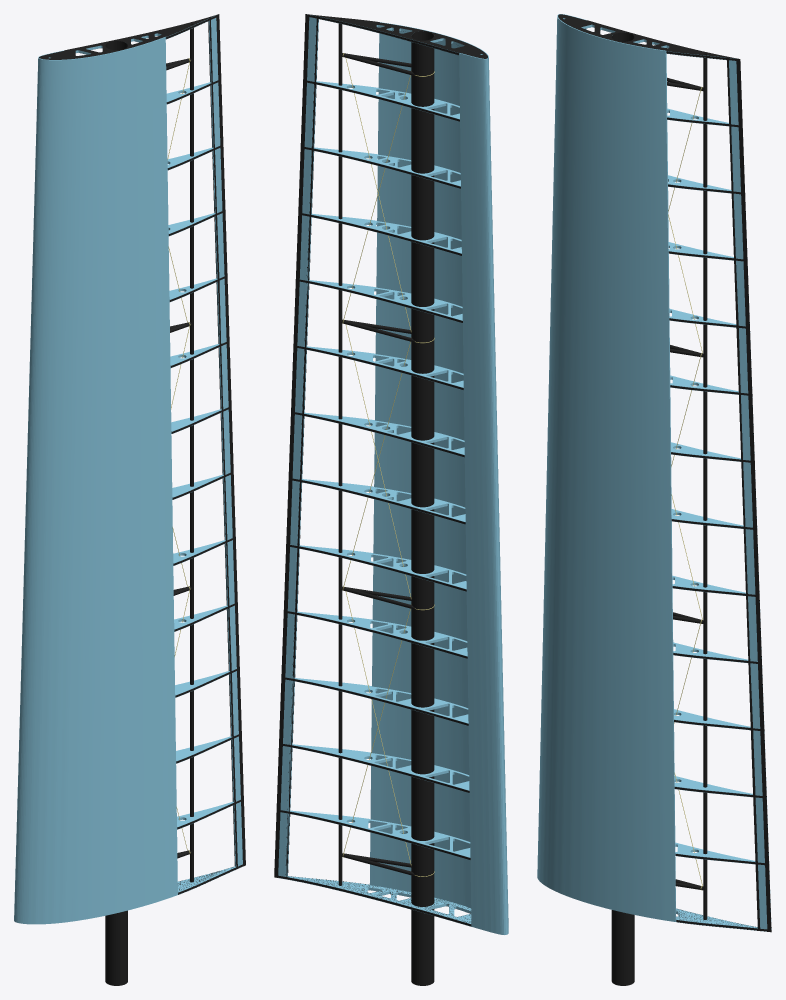
Rendered from dummy.glb.
The picture shows the model from 3 angles, left to right: view 1: azimuth 30°, elevation 25°; view 2: azimuth 150°, elevation 25°; view 3: azimuth 330°, elevation 25°; orthographic projection.
Visible parts, largest first — view 1: Plank_Skin, TE_Skin, Ribs, Rear_Spar, TE_Cap_1, Rib_Cap, Main_Spar, TE_Cap_0, CarbonRibs, TE_Cap_2; view 2: Plank_Skin, Main_Spar, Ribs, TE_Skin, Rib_Cap, Rear_Spar, TE_Cap_3, TE_Cap_2, CarbonRibs; view 3: Plank_Skin, TE_Skin, Ribs, Rear_Spar, TE_Cap_1, Rib_Cap, TE_Cap_0, Main_Spar, CarbonRibs.
Boxes of the visible parts, left/top/right/bottom form: Plank_Skin: left=14, top=37, right=177, bottom=924; TE_Skin: left=208, top=15, right=242, bottom=867; Ribs: left=49, top=18, right=235, bottom=894; Rear_Spar: left=190, top=23, right=193, bottom=882; TE_Cap_1: left=216, top=14, right=245, bottom=866; Rib_Cap: left=166, top=16, right=245, bottom=894; Main_Spar: left=105, top=41, right=127, bottom=985; TE_Cap_0: left=209, top=17, right=237, bottom=869; CarbonRibs: left=39, top=14, right=233, bottom=894; TE_Cap_2: left=208, top=21, right=235, bottom=865; Plank_Skin: left=369, top=22, right=508, bottom=934; Main_Spar: left=411, top=31, right=434, bottom=985; Ribs: left=285, top=16, right=482, bottom=926; TE_Skin: left=278, top=15, right=318, bottom=878; Rib_Cap: left=274, top=14, right=471, bottom=926; Rear_Spar: left=338, top=18, right=342, bottom=885; TE_Cap_3: left=274, top=14, right=309, bottom=877; TE_Cap_2: left=285, top=16, right=318, bottom=876; CarbonRibs: left=288, top=14, right=487, bottom=922; Plank_Skin: left=537, top=14, right=676, bottom=921; TE_Skin: left=729, top=58, right=771, bottom=931; Ribs: left=563, top=18, right=757, bottom=930; Rear_Spar: left=703, top=53, right=707, bottom=919; TE_Cap_1: left=736, top=58, right=771, bottom=932; Rib_Cap: left=666, top=51, right=771, bottom=931; TE_Cap_0: left=727, top=57, right=760, bottom=930; Main_Spar: left=611, top=32, right=634, bottom=985; CarbonRibs: left=558, top=14, right=764, bottom=931.
Size of the model in its own units: 960 by 3710 by 138.
